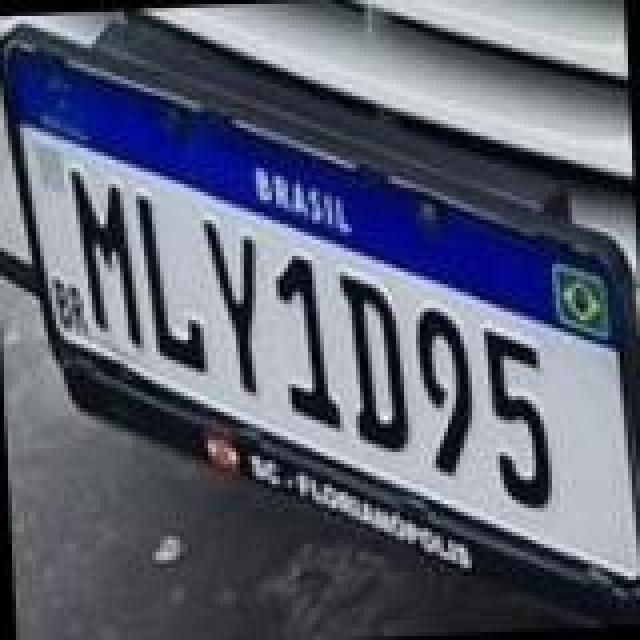1: (272, 252, 344, 436)
5: (482, 320, 558, 512)
9: (412, 304, 484, 480)
D: (338, 264, 414, 456)
L: (134, 190, 210, 378)
M: (66, 160, 142, 352)
Y: (200, 212, 264, 396)
